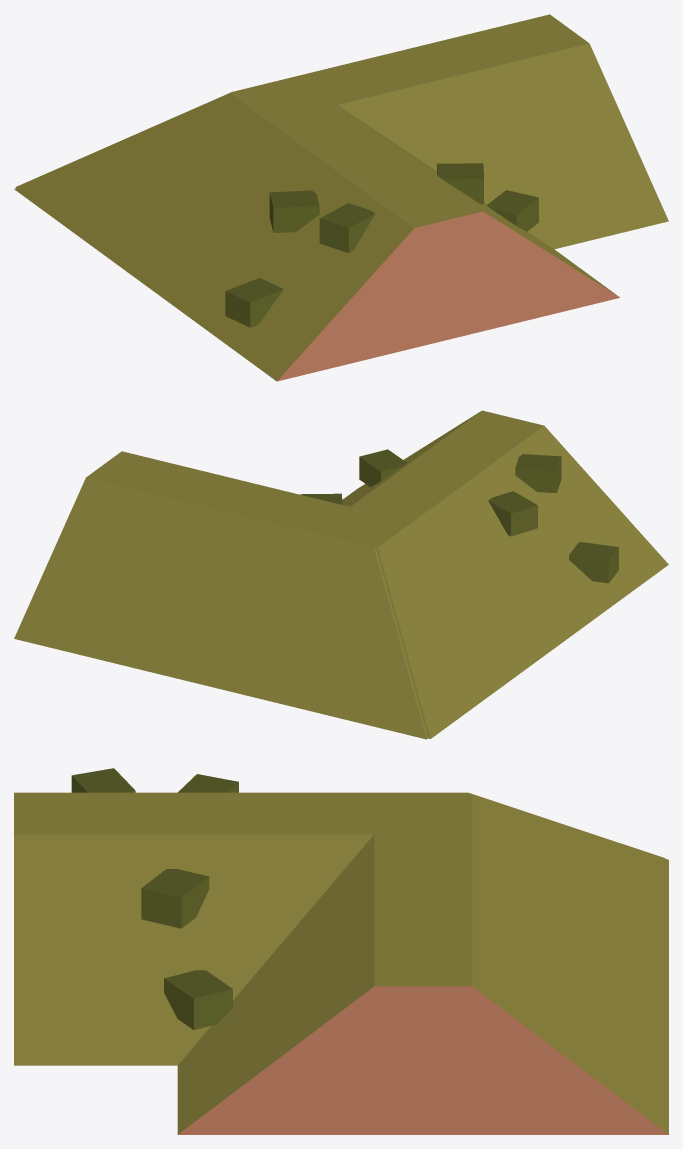
File: SM_TaludDeposito_v3_Esquina_LOD1.fbx
3 renders of one model, top to bottom at view 1: azimuth 30°, elevation 25°; view 2: azimuth 150°, elevation 25°; view 3: azimuth 270°, elevation 25°, orthographic. The views are drawn at different scales.
Parts seen in each view (by area): view 1: SM_bloques.talud_deposito_v3_LOD1; view 2: SM_bloques.talud_deposito_v3_LOD1; view 3: SM_bloques.talud_deposito_v3_LOD1.
Boxes of the visible parts, <box> form: SM_bloques.talud_deposito_v3_LOD1: <box>14,14,668,381</box>; SM_bloques.talud_deposito_v3_LOD1: <box>14,410,668,739</box>; SM_bloques.talud_deposito_v3_LOD1: <box>14,768,668,1134</box>.
Bounding box in the file's own units: 8 × 2 × 8.
